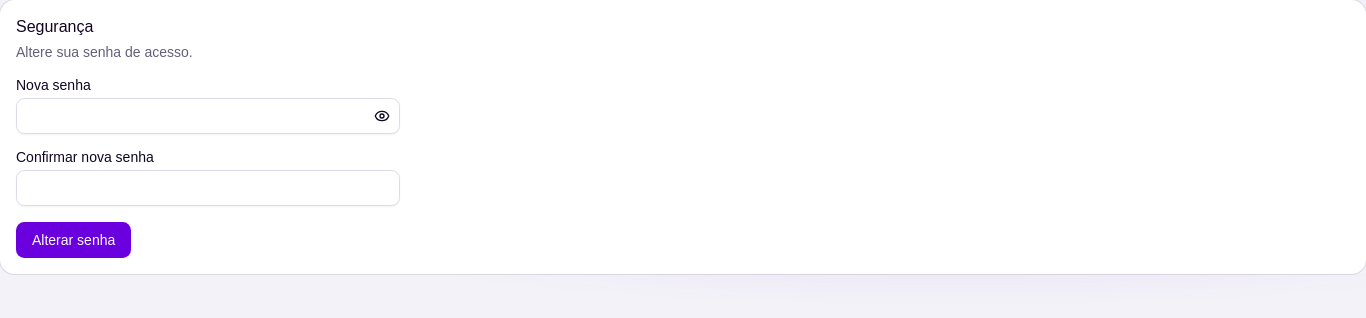
PasswordSection › exibe erro quando a senha tem menos de 6 caracteres
Type "123" into the password field labelled "Nova senha" at (208, 116), box [16, 98, 400, 134]
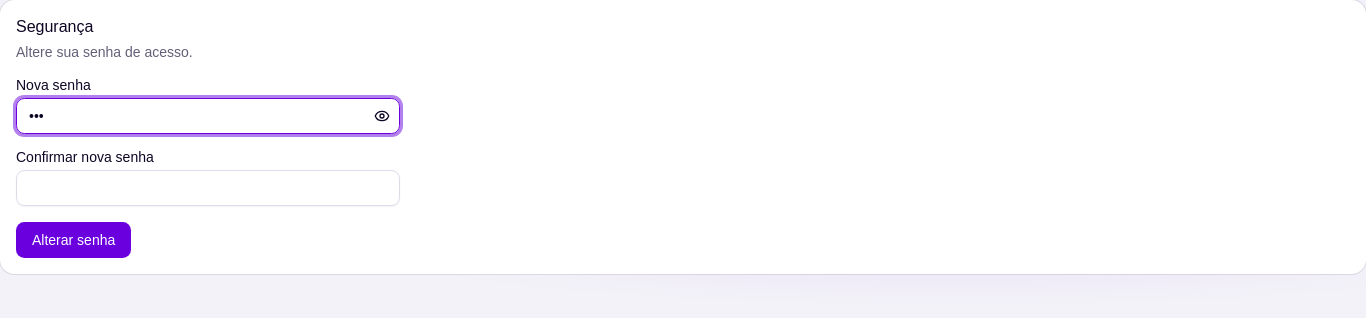
Type "123" into the password field labelled "Confirmar nova senha" at (208, 188), box [16, 170, 400, 206]
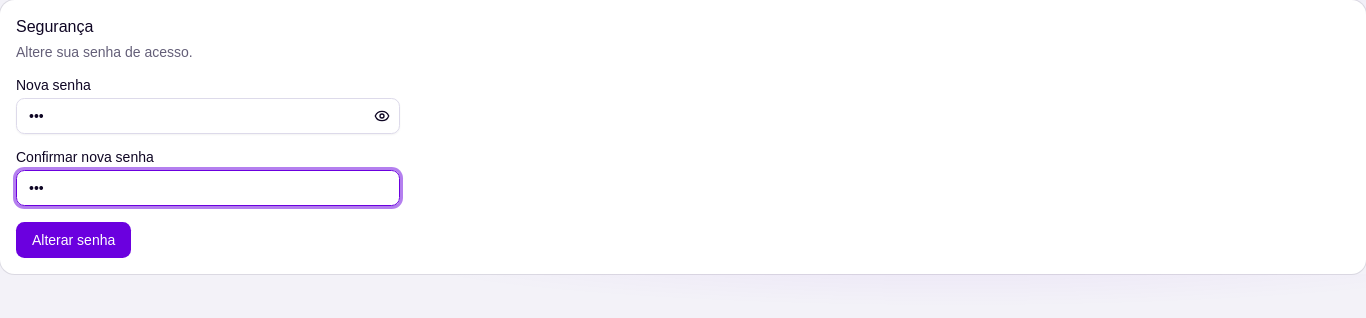
Click the button "Alterar senha" at (74, 240), box [16, 222, 131, 258]
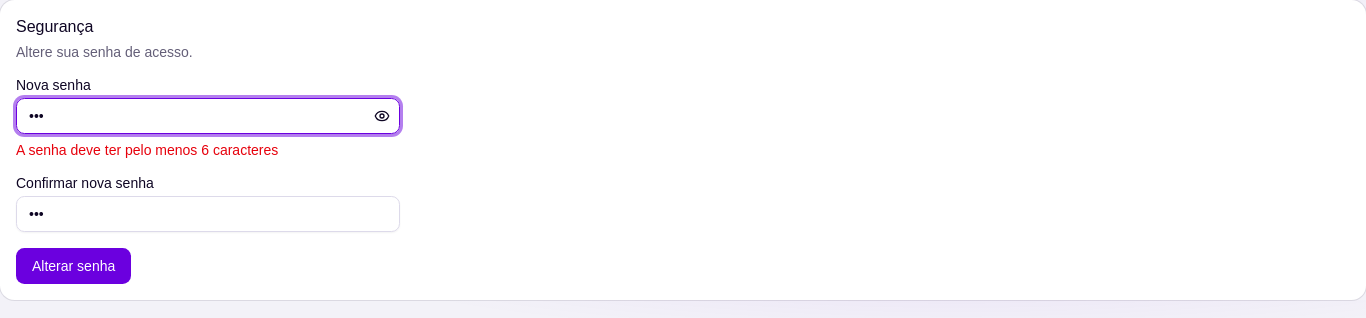
Now the text "A senha deve ter pelo menos 6 caracteres" is shown, box [16, 142, 278, 158]
